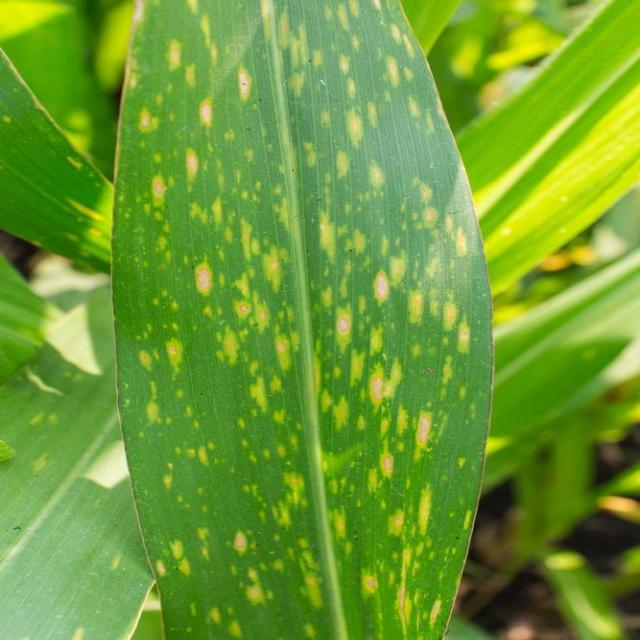blight: (155, 111, 435, 630)
